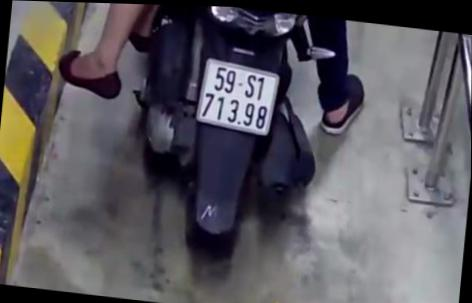LP: (195, 55, 282, 137)
